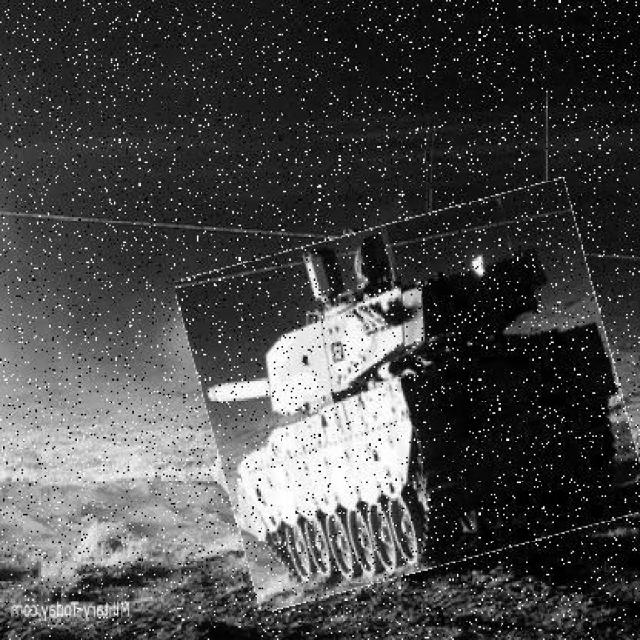Tank: (193, 201, 635, 590)
